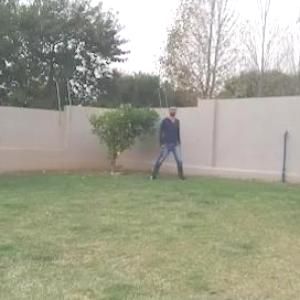follow: (160, 102, 179, 176)
